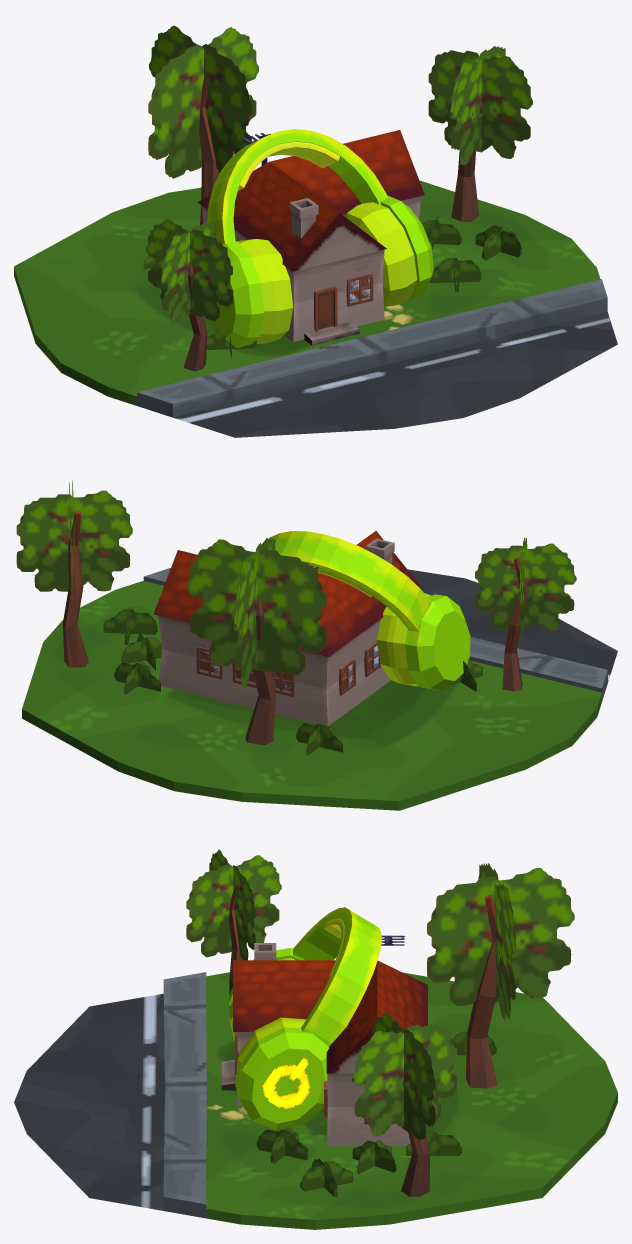
Rendered from Mason.fbx.
The picture shows the model from 3 angles, top to bottom: view 1: azimuth 30°, elevation 25°; view 2: azimuth 150°, elevation 25°; view 3: azimuth 270°, elevation 25°; orthographic projection. The views are drawn at different scales.
Visible parts, largest first — view 1: ground house; view 2: ground house; view 3: ground house.
Boxes of the visible parts, x1=… form: ground house: x1=14, y1=25, x2=617, y2=437; ground house: x1=16, y1=480, x2=617, y2=810; ground house: x1=14, y1=849, x2=617, y2=1229.
Bounding box in the file's own units: 1118 × 446 × 1118.
Materials: 3 (3 with a texture image).
